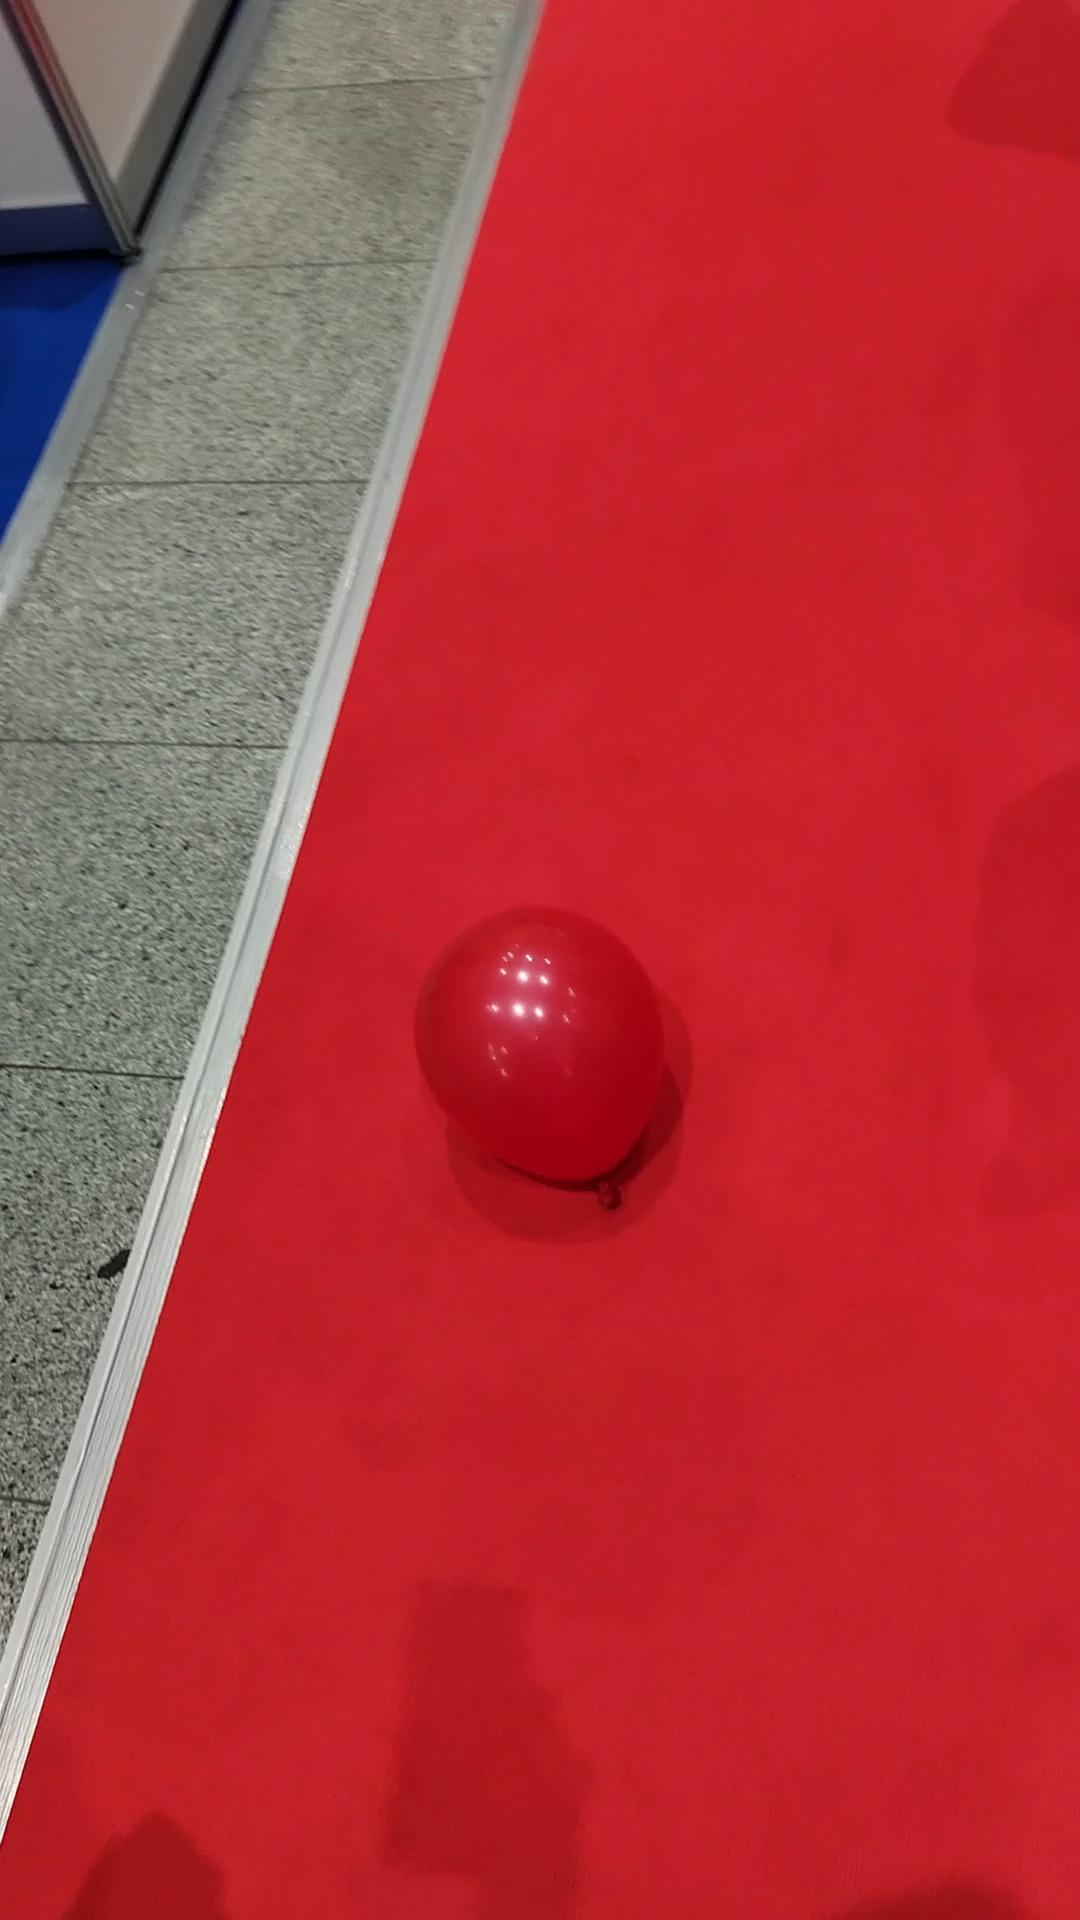red: (415, 907, 667, 1192)
